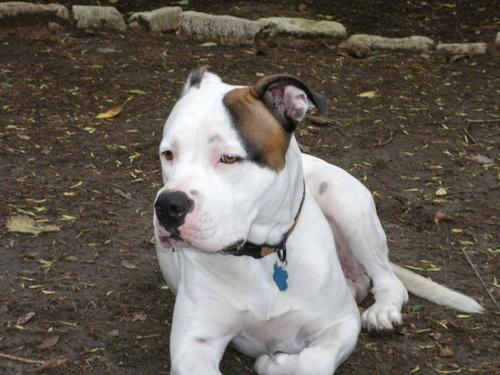dog: (153, 65, 325, 252)
